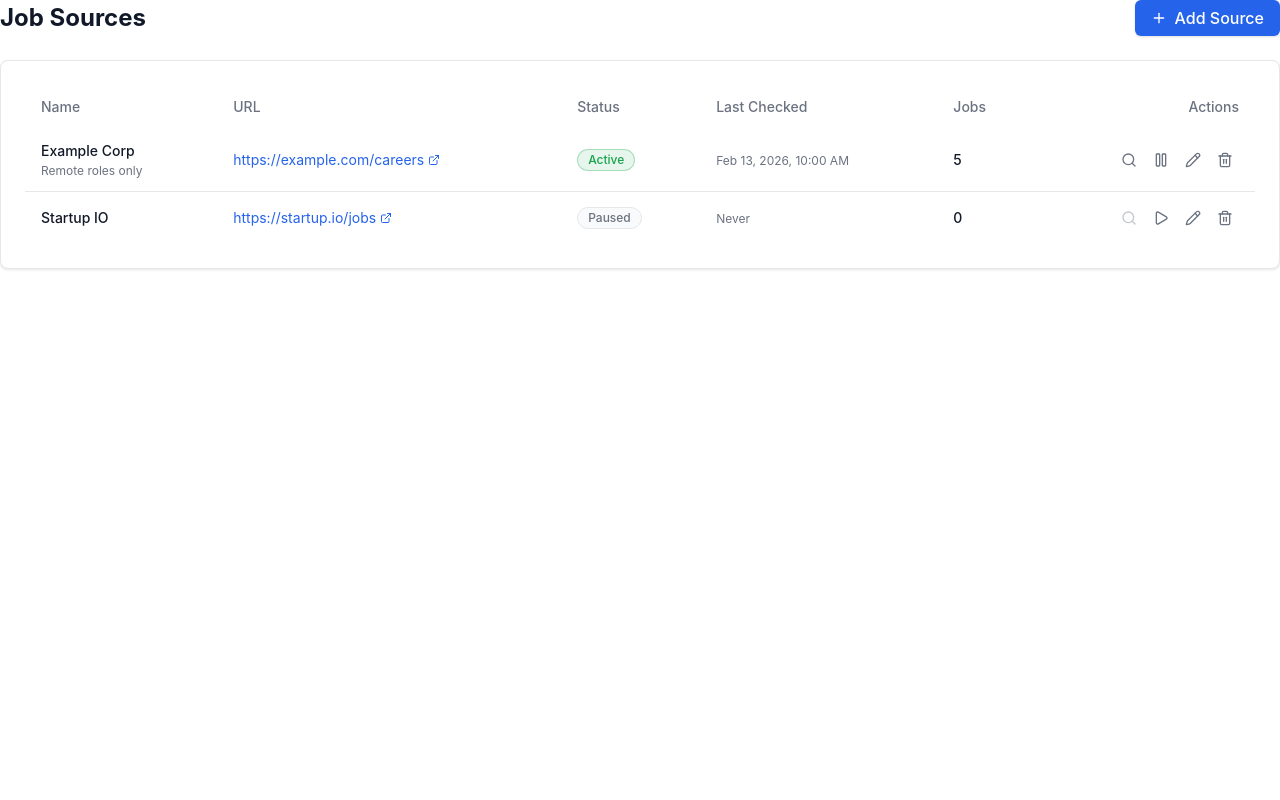
Scenario: Sources Page › Edit source › opens edit modal with pre-filled data
This screenshot has width=1280, height=800.
Expected: the text "Example Corp" is shown, x1=41 y1=142 x2=135 y2=159
Click the button titled "Edit" in the row of "Example Corp": (1193, 160) x1=1179 y1=146 x2=1207 y2=174
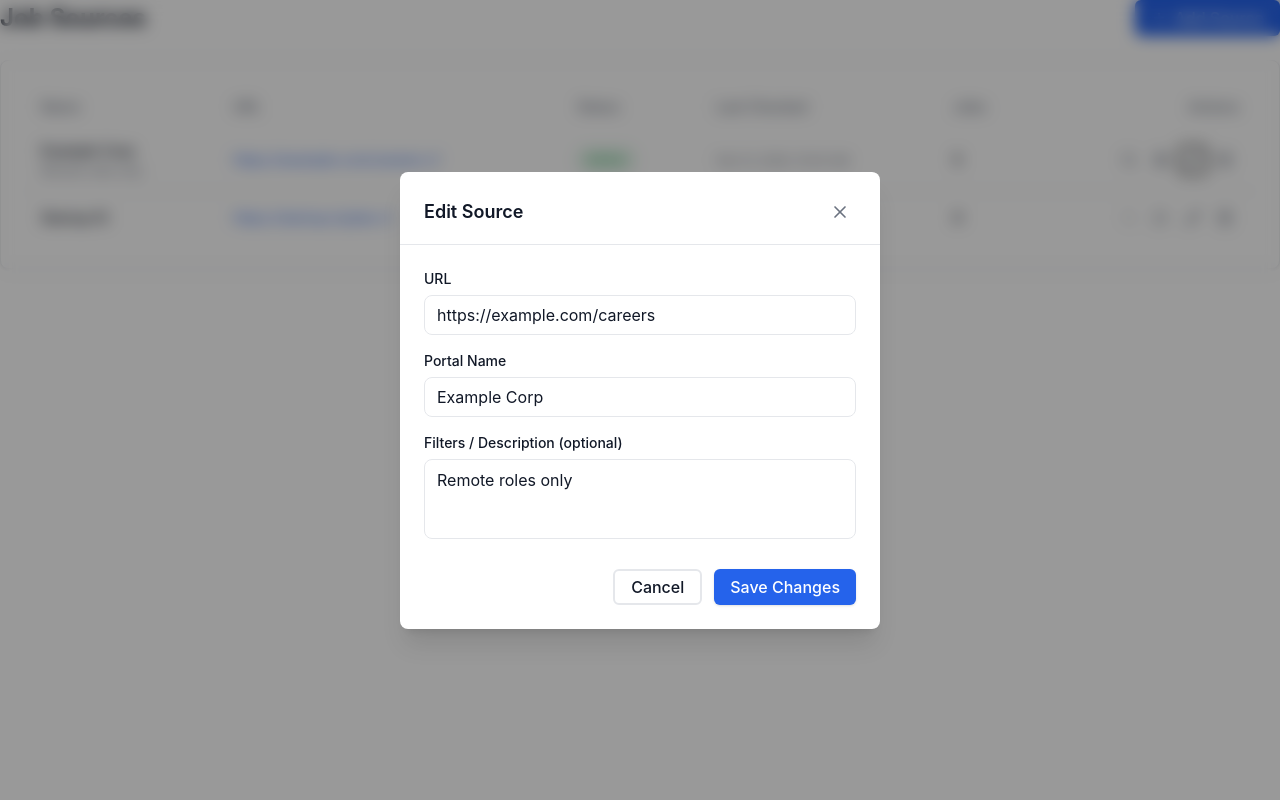
Now the heading "Edit Source" is shown, box x1=424 y1=198 x2=523 y2=226
Now the field labelled "URL" holds "https://example.com/careers", box x1=424 y1=294 x2=856 y2=334
